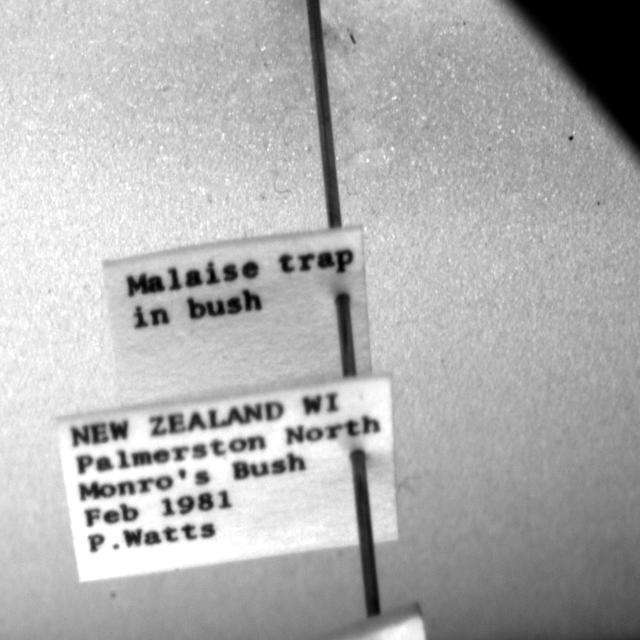typed_label: (58, 377, 398, 581), (104, 227, 371, 405)
